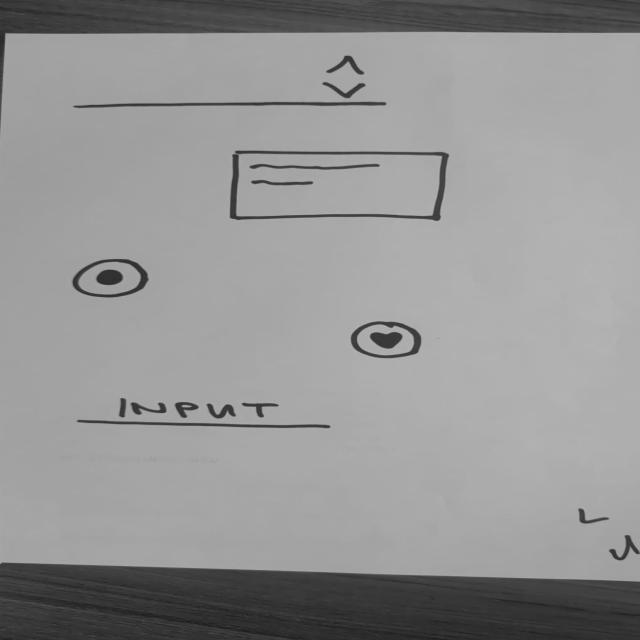icon-button: (343, 317, 429, 361)
input: (76, 393, 340, 433)
number-input: (64, 54, 396, 114)
radio: (71, 259, 158, 301)
textarea: (226, 148, 457, 226)
